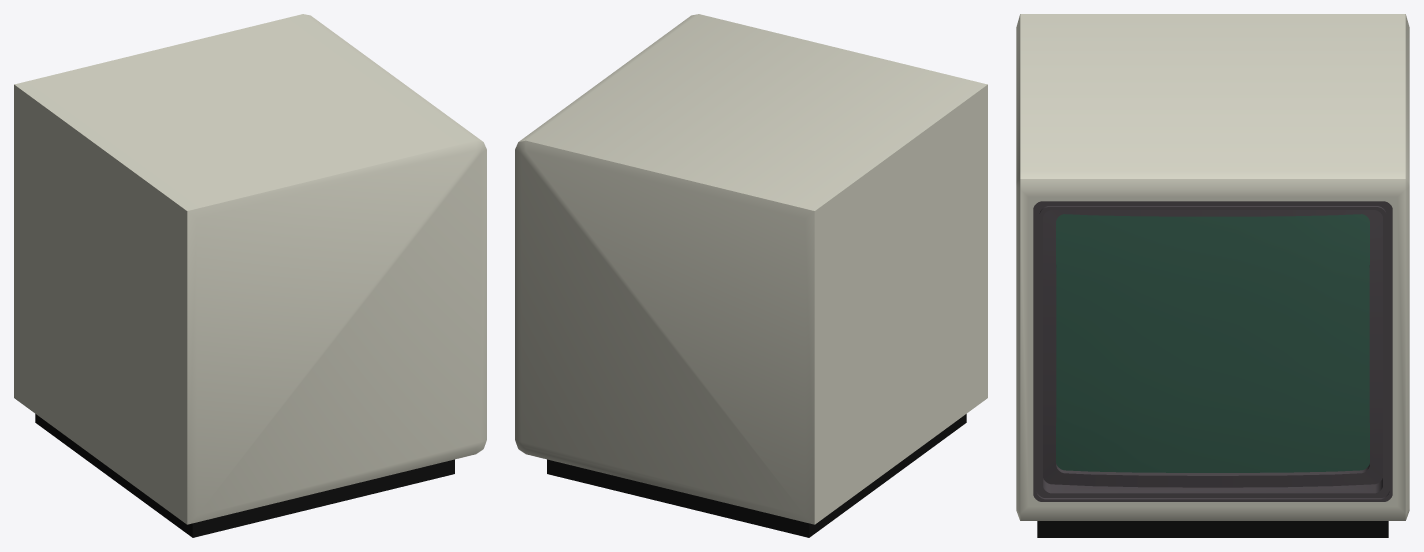
The model's file is monitor.fbx.
3 renders of one model, left to right at view 1: azimuth 30°, elevation 25°; view 2: azimuth 150°, elevation 25°; view 3: azimuth 270°, elevation 25°, orthographic. The views are drawn at different scales.
Visible parts, largest first — view 1: Monitor; view 2: Monitor; view 3: Monitor.
Part boxes in pixels (<box>): Monitor: <box>14,14,486,537</box>; Monitor: <box>515,14,987,537</box>; Monitor: <box>1016,14,1409,537</box>.
Size of the model in its own units: 70 by 74.94 by 71.42.
